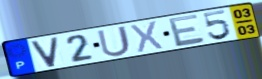2: (65, 34, 95, 64)
5: (202, 8, 233, 42)
E: (167, 12, 207, 48)
U: (96, 24, 133, 58)
V: (29, 36, 60, 69)
X: (129, 20, 165, 54)
